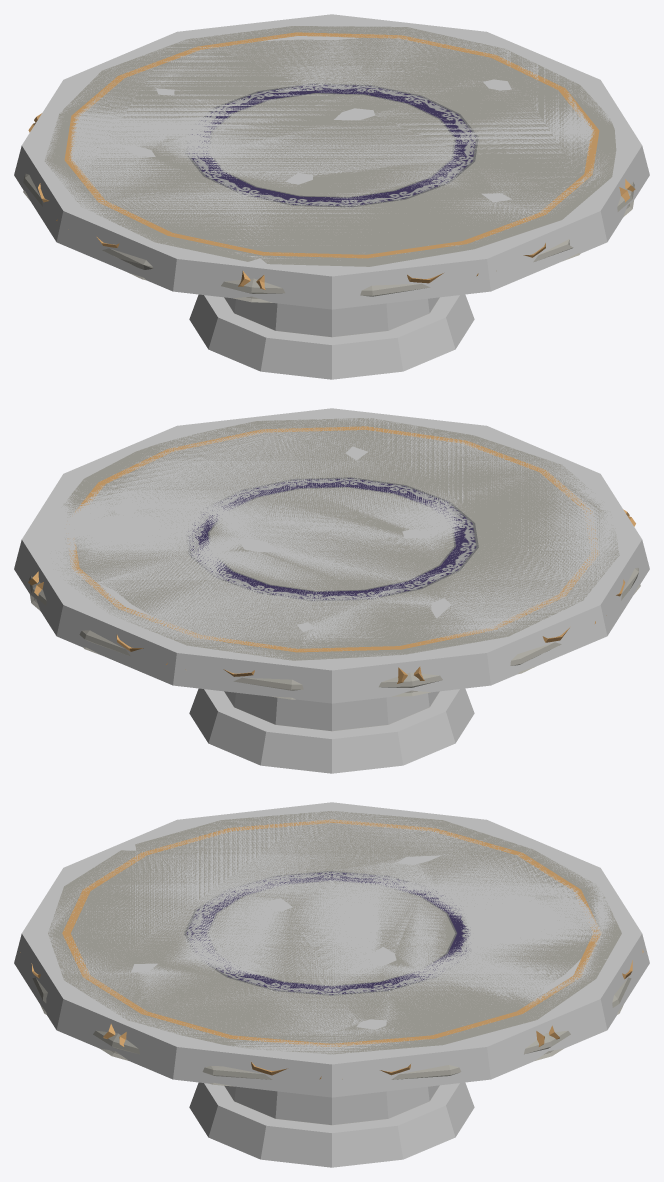
File: SM_Prop_Table_01.fbx
The picture shows the model from 3 angles, top to bottom: view 1: azimuth 30°, elevation 25°; view 2: azimuth 150°, elevation 25°; view 3: azimuth 270°, elevation 25°; orthographic projection.
Parts seen in each view (by area): view 1: SM_Prop_Table_01_ConvexHulls, SM_Prop_Table_01; view 2: SM_Prop_Table_01_ConvexHulls, SM_Prop_Table_01; view 3: SM_Prop_Table_01_ConvexHulls, SM_Prop_Table_01.
Boxes of the visible parts, box(x1,y1,x2,y2) form: SM_Prop_Table_01_ConvexHulls: box(14, 14, 649, 379); SM_Prop_Table_01: box(23, 26, 635, 337); SM_Prop_Table_01_ConvexHulls: box(14, 408, 649, 773); SM_Prop_Table_01: box(28, 418, 640, 731); SM_Prop_Table_01_ConvexHulls: box(14, 802, 649, 1167); SM_Prop_Table_01: box(20, 811, 643, 1125).
Bounding box in the file's own units: 258 × 258 × 77.98.
2 materials, 1 textured.
